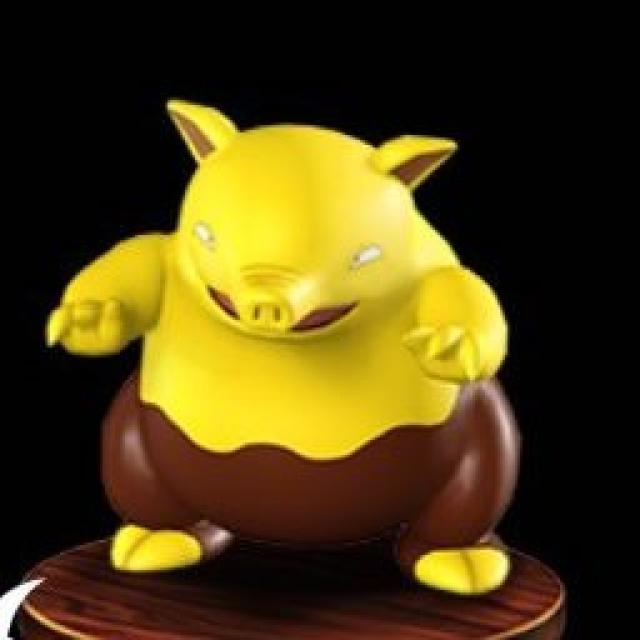Drowzee: (90, 93, 519, 590)
